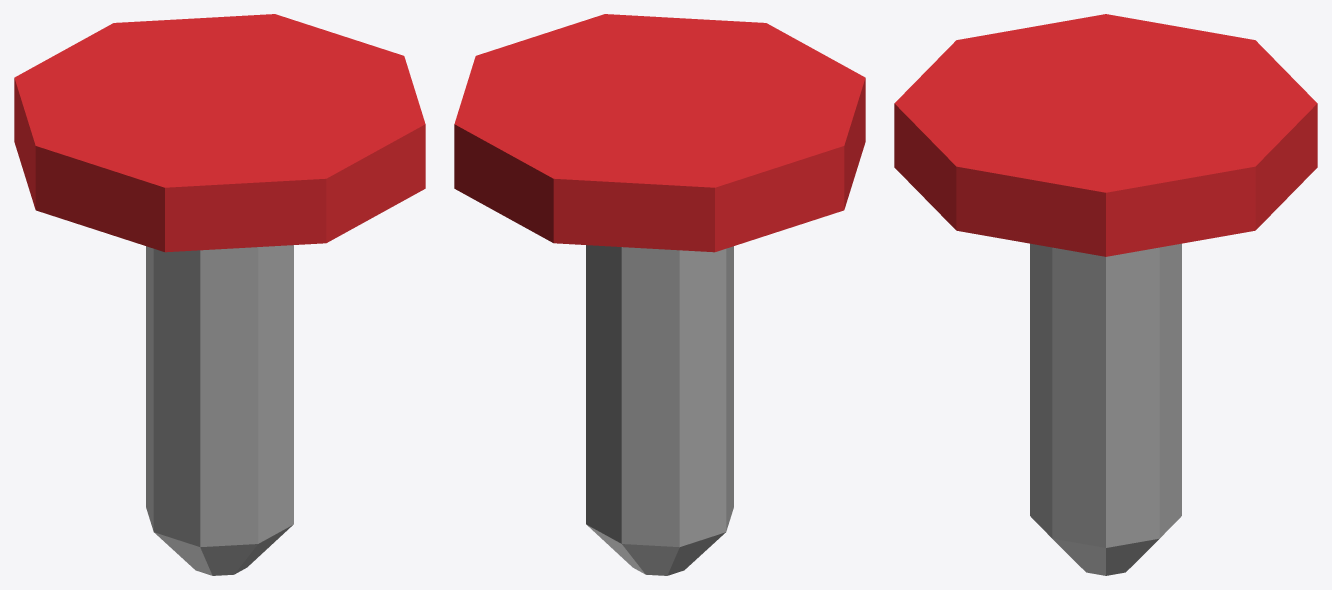
File: screw_red.gltf
3 renders of one model, left to right at view 1: azimuth 30°, elevation 25°; view 2: azimuth 150°, elevation 25°; view 3: azimuth 270°, elevation 25°, orthographic.
Parts seen in each view (by area): view 1: Cylinder, Cylinder.001; view 2: Cylinder, Cylinder.001; view 3: Cylinder, Cylinder.001.
Boxes of the visible parts, x1,y1,x2,y2 form: Cylinder: (14, 14, 425, 252); Cylinder.001: (146, 245, 293, 575); Cylinder: (454, 14, 865, 252); Cylinder.001: (586, 245, 733, 575); Cylinder: (894, 14, 1317, 256); Cylinder.001: (1030, 243, 1181, 575).
Bounding box in the file's own units: 1.46 × 1.75 × 1.46.
